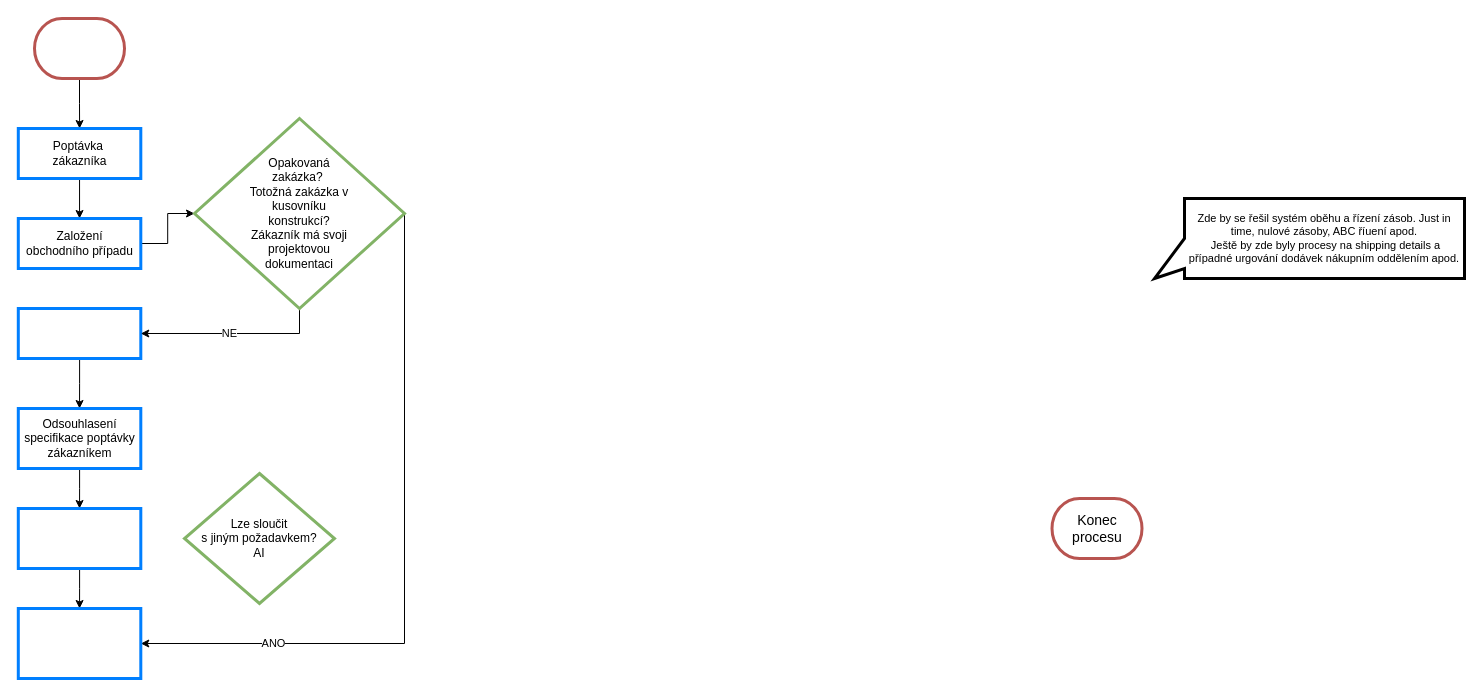
Image size: 1484x697. Some labels were removed from this diagram. The centre of each missing label's shape, as x and y in pixels:
"Konstrukční oddělení Vypracování projektové dokumenace" belongs at (x=79, y=538).
"Odsouhlasení projektové dokumentace zákazníkem" belongs at (x=79, y=643).
"Specifikace poptávky (klient, obchodník, technolog)" belongs at (x=79, y=333).
"Start procesu" belongs at (x=79, y=48).
